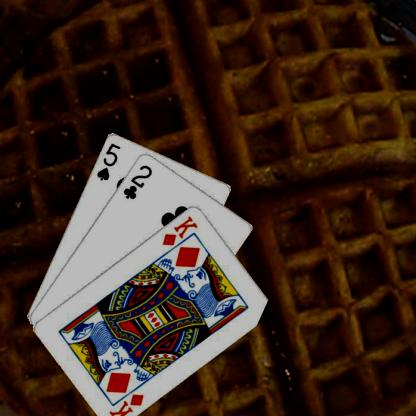2C: (120, 162, 154, 200)
5S: (94, 140, 121, 181)
KD: (159, 213, 199, 247), (107, 391, 145, 416)
